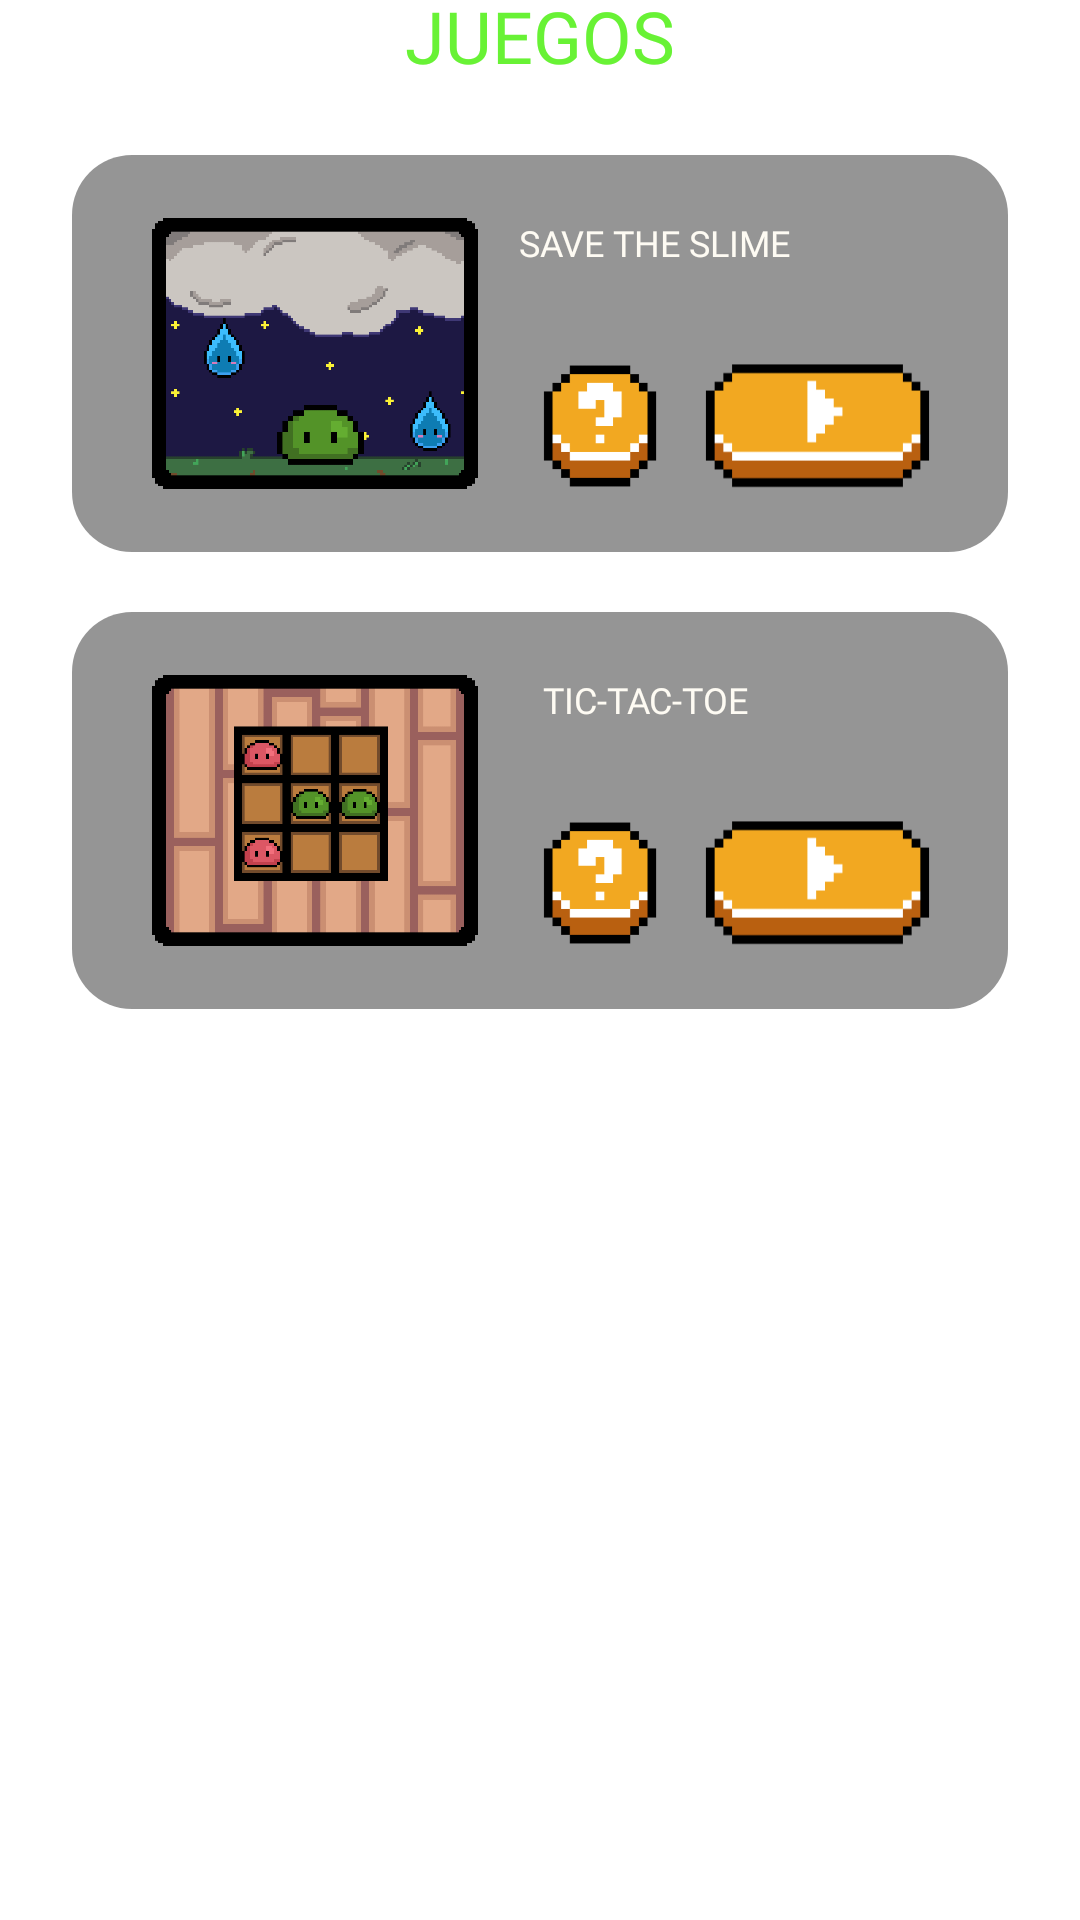

Screen size 1080 × 1920. Icon name, then its center in pixels as (x,y):
continuar: (817,425), (817,882)
game: (315,353), (315,810)
informacion: (600,426), (600,883)
